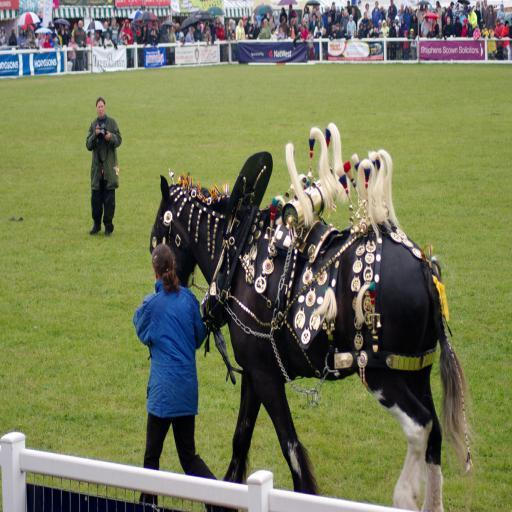horse: (146, 168, 480, 512)
